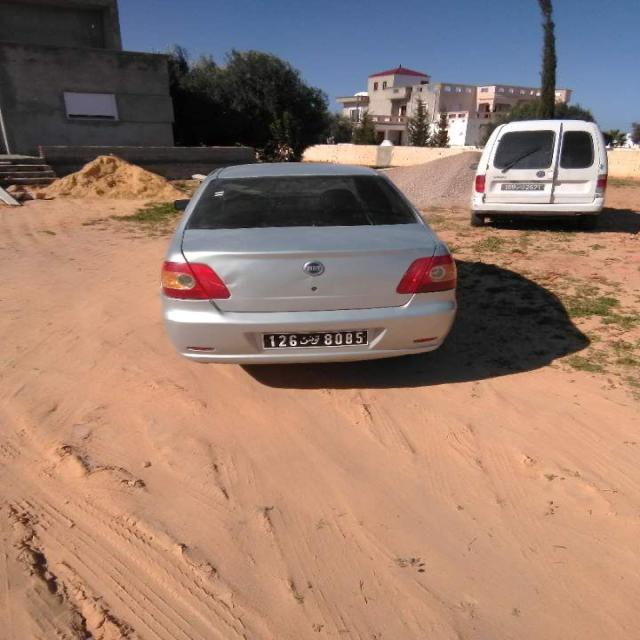LP: (261, 329, 368, 348)
